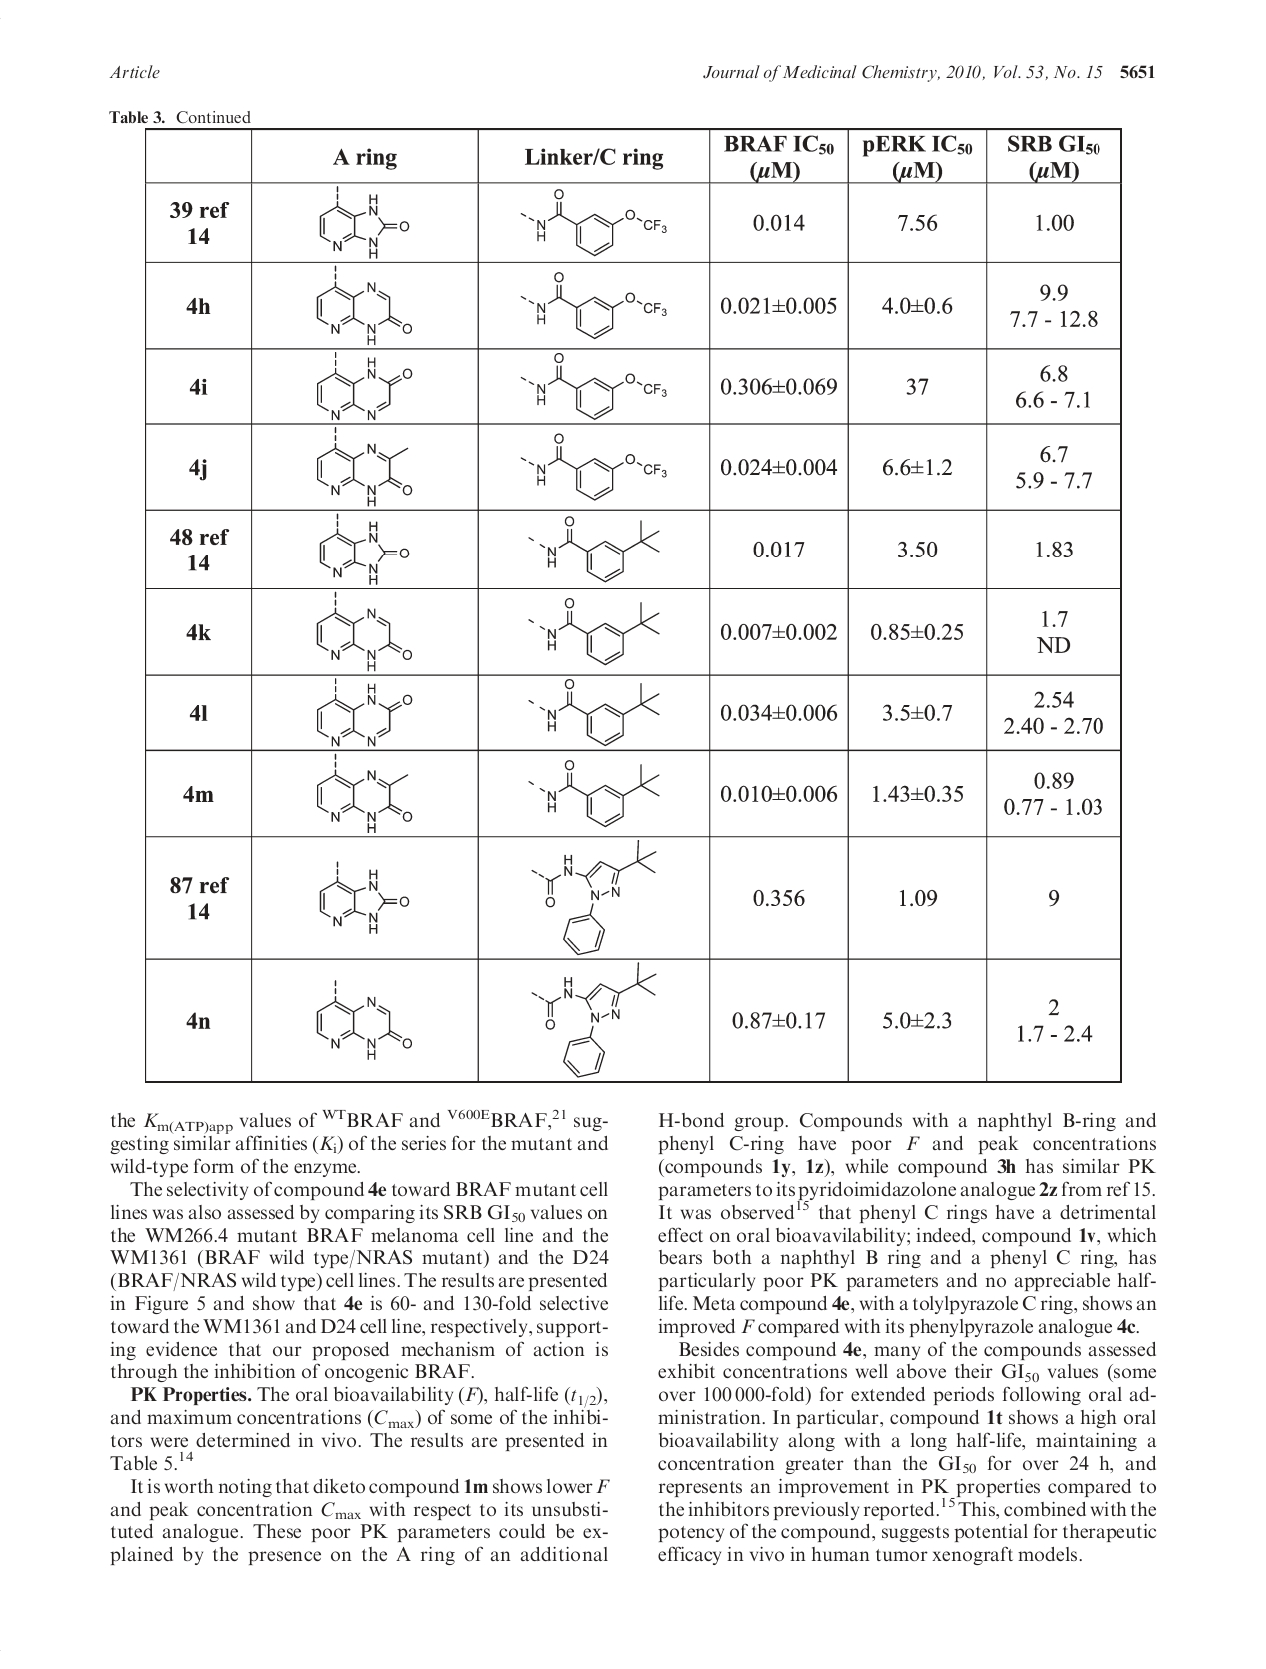exist_molecular: (531, 962, 658, 1079), (532, 839, 658, 955), (520, 431, 668, 501), (520, 352, 668, 422), (519, 271, 669, 339), (521, 188, 668, 257), (528, 759, 664, 829), (528, 594, 660, 665), (524, 516, 661, 582), (528, 678, 661, 746), (314, 265, 415, 346), (314, 590, 415, 672), (316, 977, 414, 1061), (316, 751, 414, 834), (316, 427, 414, 508), (318, 184, 412, 259), (318, 859, 410, 936), (314, 677, 414, 747), (315, 352, 414, 420), (320, 512, 410, 586)
